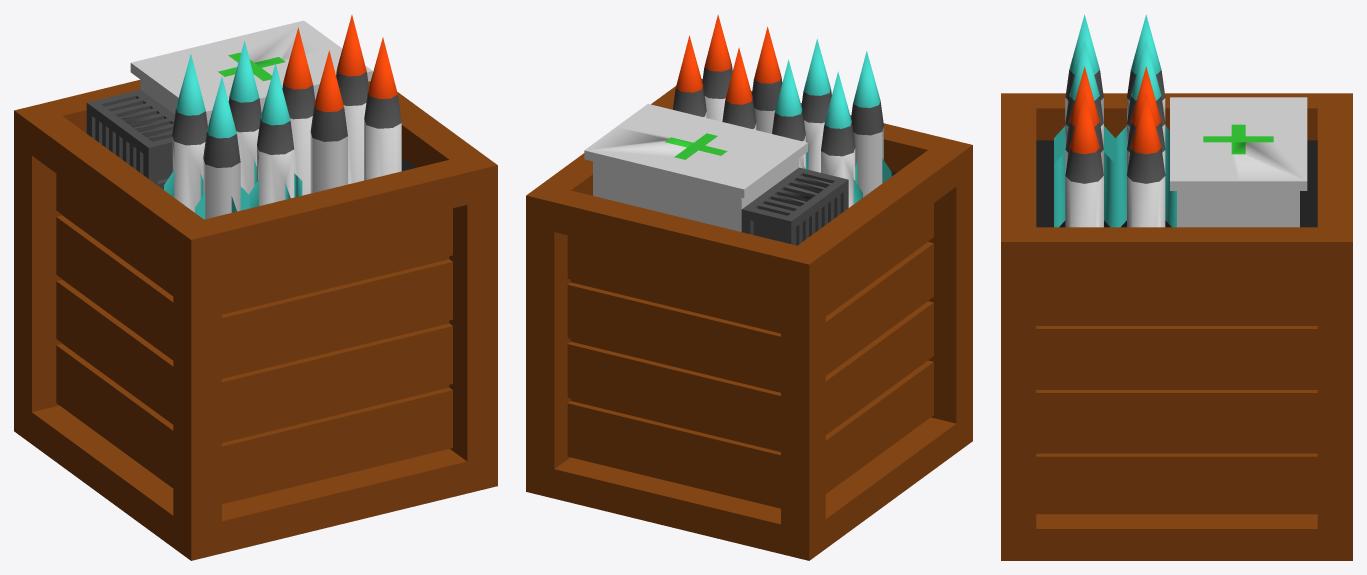
File: Item_Crate.fbx
3 renders of one model, left to right at view 1: azimuth 30°, elevation 25°; view 2: azimuth 150°, elevation 25°; view 3: azimuth 270°, elevation 25°, orthographic. The views are drawn at different scales.
Visible parts, largest first — view 1: G-Object.002, G-Object.001, C-rocket.002, C-rocket.001, C-rocket, C-rocket.003, _G-Object (Loose Mesh); view 2: G-Object.002, G-Object.001, _G-Object (Loose Mesh), C-rocket.001, C-rocket, C-rocket.002, C-rocket.003; view 3: G-Object.002, G-Object.001, C-rocket.002, C-rocket.003, C-rocket.001, C-rocket.
Part boxes in pixels (left/top/right/bottom): G-Object.002: left=14, top=80, right=497, bottom=560; G-Object.001: left=130, top=20, right=372, bottom=125; C-rocket.002: left=248, top=37, right=401, bottom=208; C-rocket.001: left=195, top=50, right=347, bottom=219; C-rocket: left=164, top=27, right=315, bottom=212; C-rocket.003: left=228, top=15, right=368, bottom=194; _G-Object (Loose Mesh): left=86, top=89, right=174, bottom=189; G-Object.002: left=526, top=79, right=972, bottom=560; G-Object.001: left=584, top=104, right=807, bottom=231; _G-Object (Loose Mesh): left=741, top=167, right=848, bottom=245; C-rocket.001: left=752, top=26, right=891, bottom=197; C-rocket: left=722, top=48, right=862, bottom=207; C-rocket.002: left=702, top=14, right=831, bottom=172; C-rocket.003: left=673, top=35, right=805, bottom=168; G-Object.002: left=1001, top=93, right=1352, bottom=560; G-Object.001: left=1170, top=97, right=1307, bottom=227; C-rocket.002: left=1054, top=40, right=1115, bottom=227; C-rocket.003: left=1115, top=40, right=1176, bottom=227; C-rocket.001: left=1054, top=14, right=1115, bottom=174; C-rocket: left=1115, top=14, right=1169, bottom=173.
Size of the model in its own units: 100 by 136 by 100.
